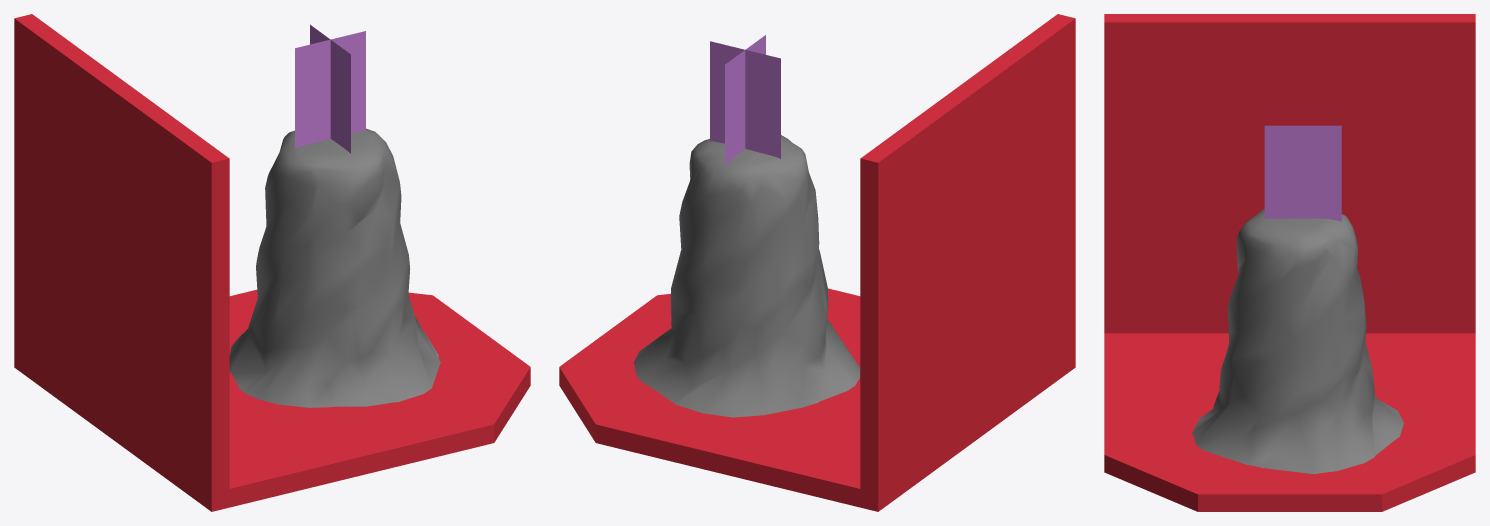
File: Candle.fbx
3 renders of one model, left to right at view 1: azimuth 30°, elevation 25°; view 2: azimuth 150°, elevation 25°; view 3: azimuth 270°, elevation 25°, orthographic. The views are drawn at different scales.
Visible parts, largest first — view 1: Box001, Cylinder001, Plane001; view 2: Box001, Cylinder001, Plane001; view 3: Box001, Cylinder001, Plane001.
Part boxes in pixels (x1,y1,x2,y2): Box001: (14, 14, 530, 511); Cylinder001: (229, 128, 440, 407); Plane001: (295, 25, 365, 153); Box001: (559, 14, 1075, 511); Cylinder001: (633, 135, 860, 417); Plane001: (710, 35, 780, 166); Box001: (1104, 14, 1475, 511); Cylinder001: (1192, 208, 1403, 473); Plane001: (1264, 125, 1341, 221).
Size of the model in its own units: 48.91 by 45.34 by 44.24.
